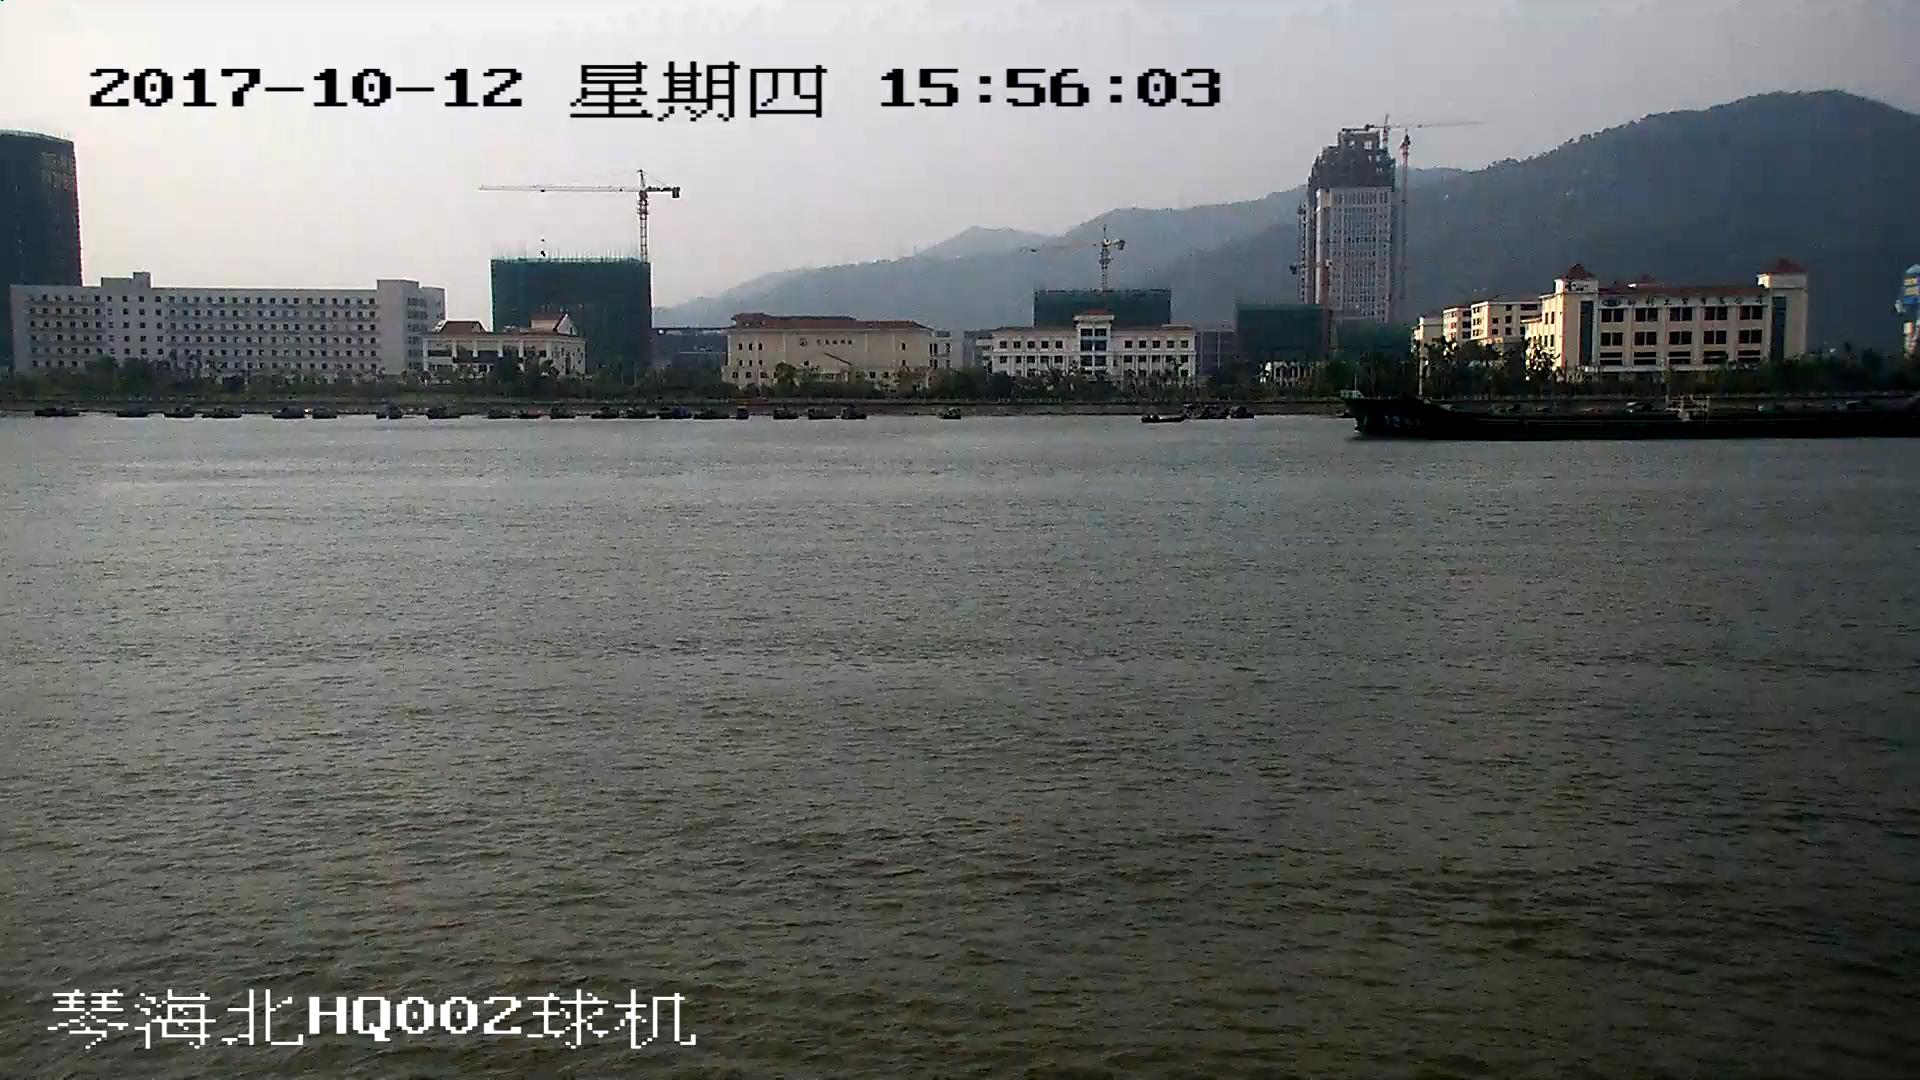general cargo ship: (1346, 386, 1920, 440)
